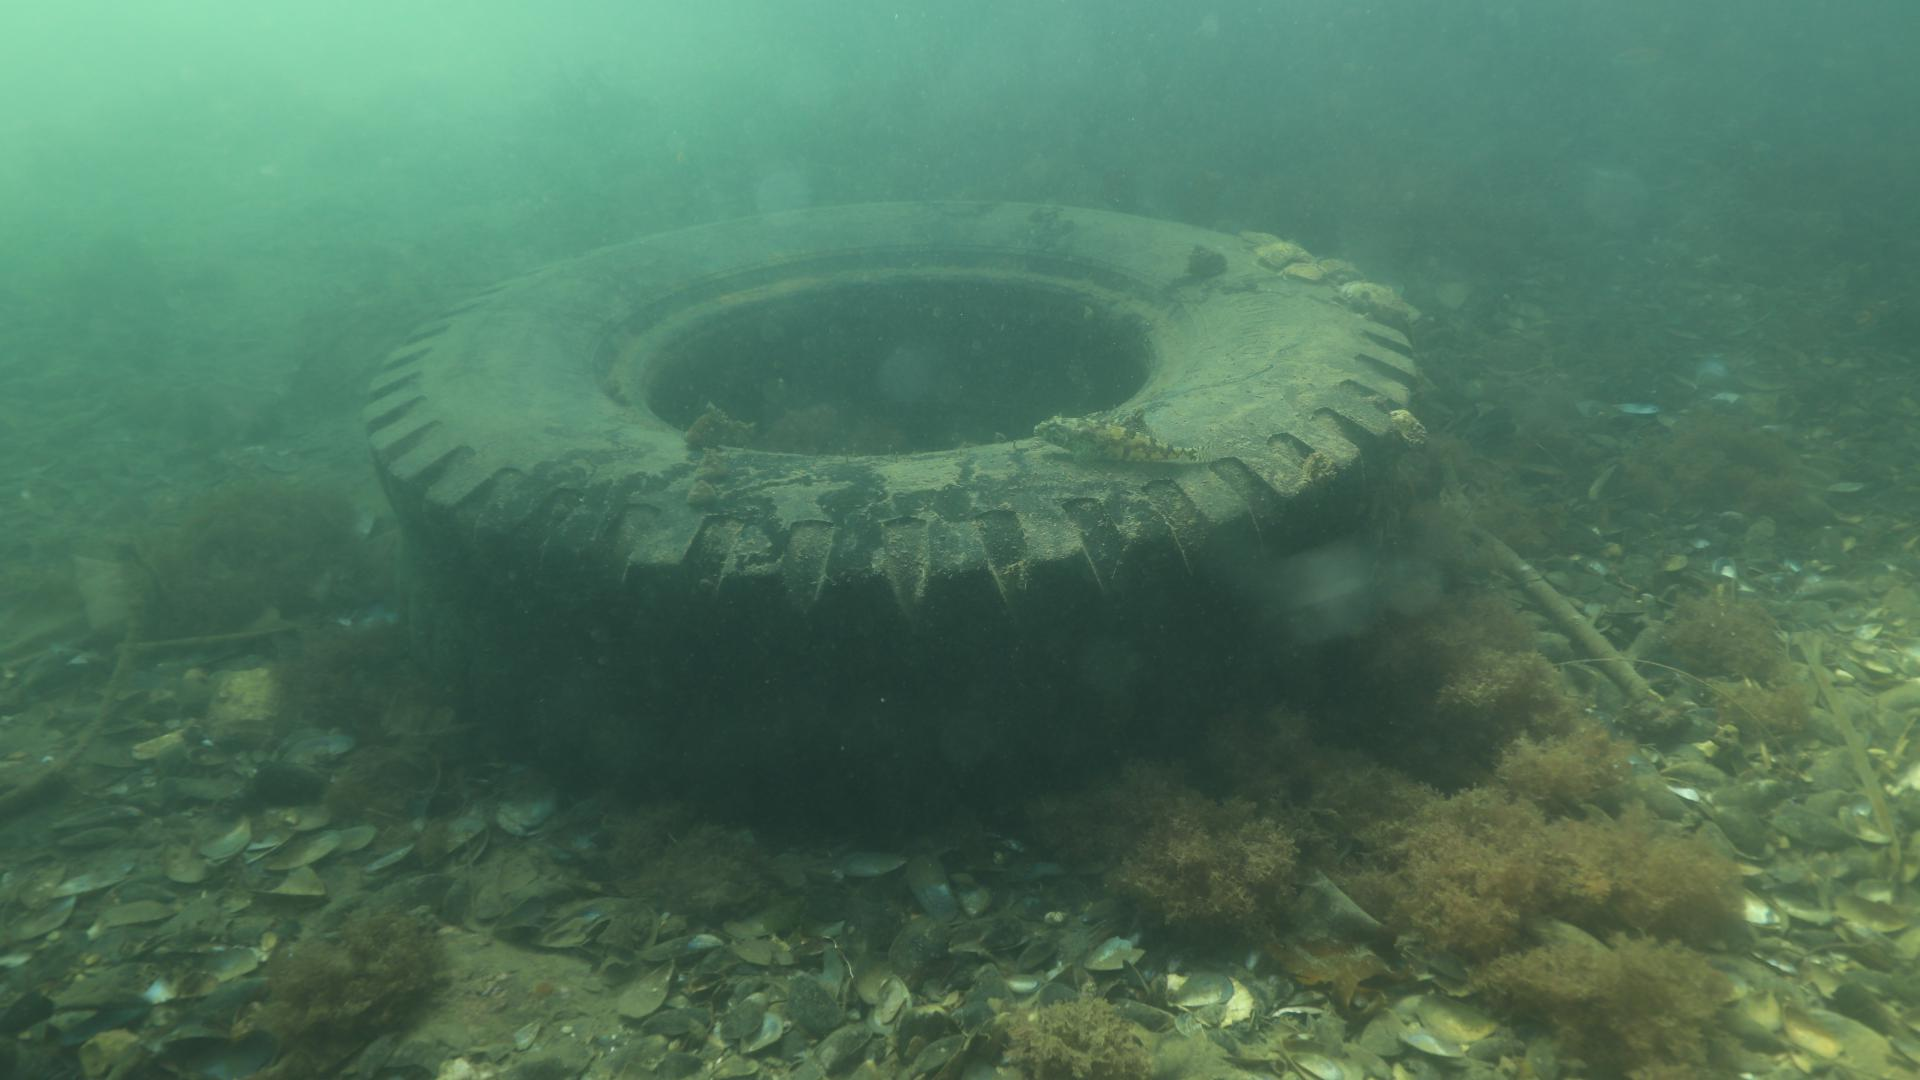tire: (361, 196, 1418, 825)
